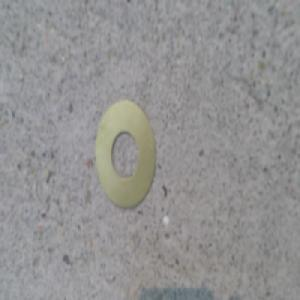Washer: (93, 98, 157, 211)
